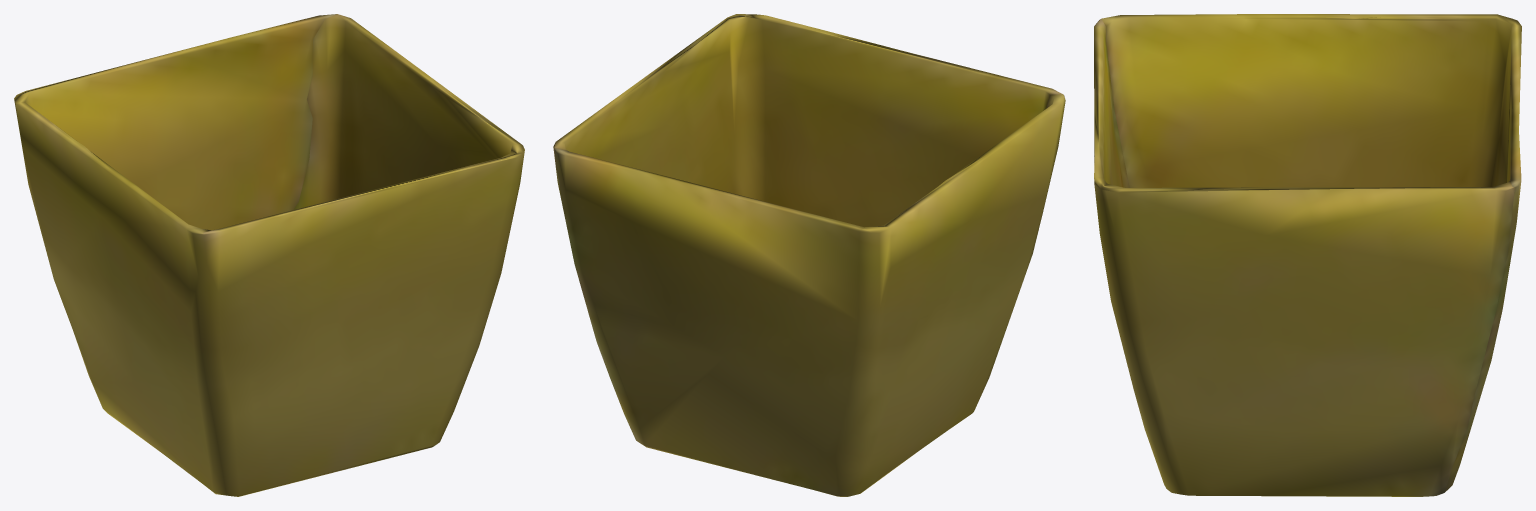
File: Ecoforms_Plant_Container_QP6HARVEST-medium.glb
3 renders of one model, left to right at view 1: azimuth 30°, elevation 25°; view 2: azimuth 150°, elevation 25°; view 3: azimuth 270°, elevation 25°, orthographic. The views are drawn at different scales.
Visible parts, largest first — view 1: Ecoforms_Plant_Container_QP6HARVEST; view 2: Ecoforms_Plant_Container_QP6HARVEST; view 3: Ecoforms_Plant_Container_QP6HARVEST.
Part boxes in pixels (x1,y1,x2,y2): Ecoforms_Plant_Container_QP6HARVEST: (14,14,524,496); Ecoforms_Plant_Container_QP6HARVEST: (553,14,1065,496); Ecoforms_Plant_Container_QP6HARVEST: (1094,14,1521,496).
Size of the model in its own units: 0.1898 by 0.1674 by 0.1899.
1 material, 1 textured.
